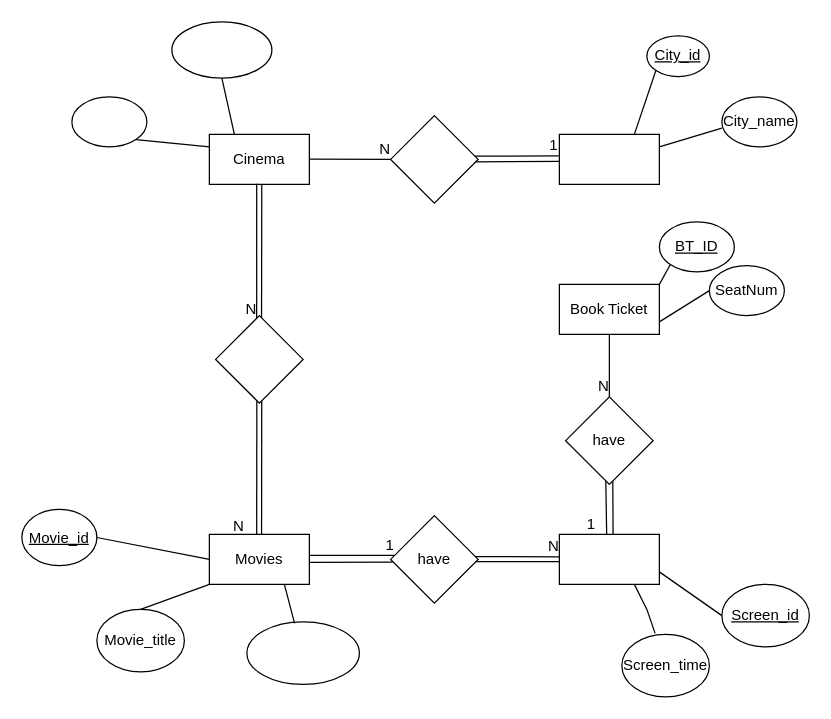
This 831x719 diagram has some shape labels left out. The centre of each missing label's shape, as x and y in pixels:
"Cinema-id" goes at [109,121].
"Cinema_name" goes at [221,49].
"City" goes at [608,158].
"featured" goes at [258,358].
"located in" goes at [433,158].
"Movie_duration" goes at [302,652].
"Screening" goes at [608,558].
